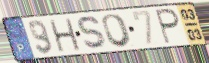7: (130, 8, 156, 48)
9: (28, 18, 54, 56)
H: (48, 17, 84, 54)
O: (100, 12, 134, 49)
P: (154, 7, 181, 46)
S: (76, 15, 110, 52)
